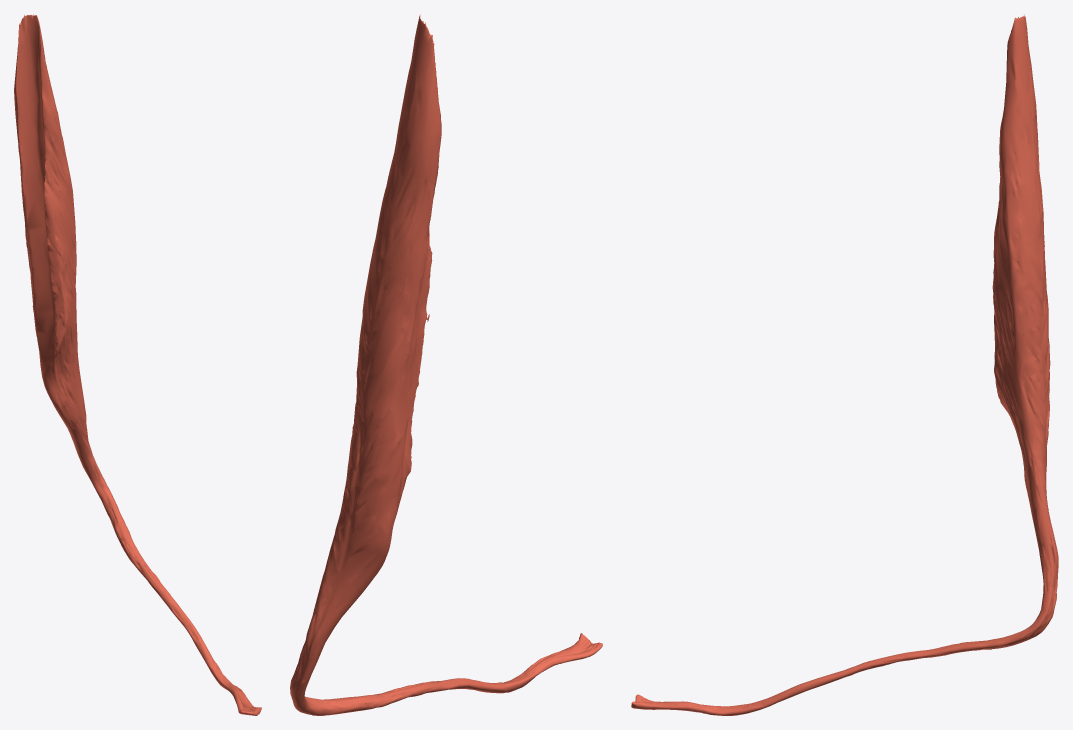
Rendered from flexor-hallucis-longus.glb.
3 renders of one model, left to right at view 1: azimuth 30°, elevation 25°; view 2: azimuth 150°, elevation 25°; view 3: azimuth 270°, elevation 25°, orthographic. The views are drawn at different scales.
Parts seen in each view (by area): view 1: Flexor hallucis longus.r; view 2: Flexor hallucis longus.r; view 3: Flexor hallucis longus.r.
Boxes of the visible parts, x1,y1,x2,y2 form: Flexor hallucis longus.r: (14,14,261,715); Flexor hallucis longus.r: (290,14,602,715); Flexor hallucis longus.r: (631,14,1058,715).
Bounding box in the file's own units: 0.0566 × 0.3177 × 0.1848.
